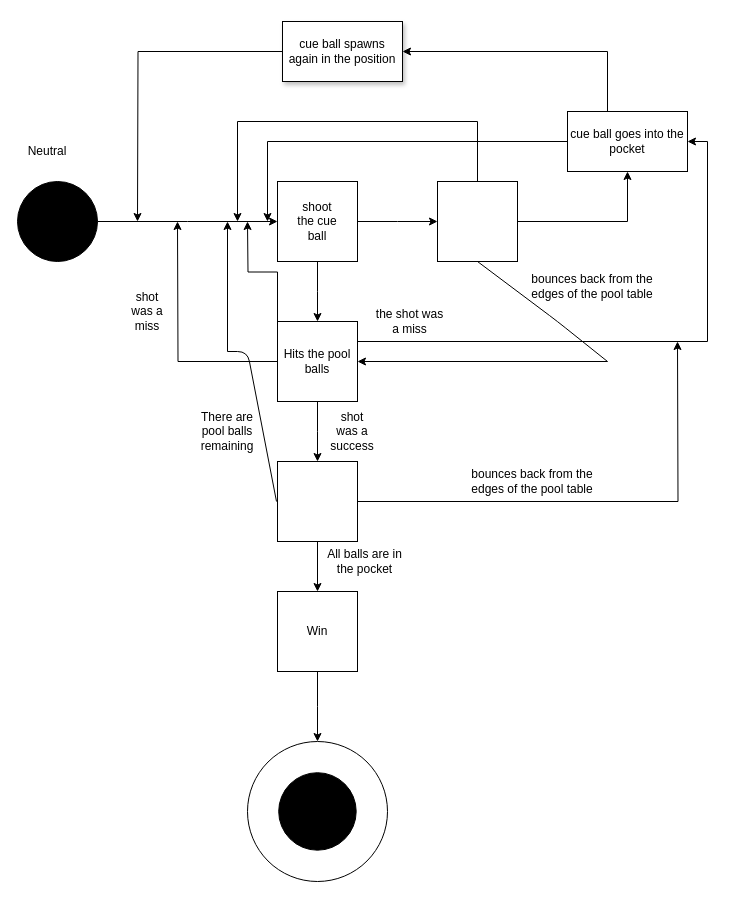
The diagram is 733 pixels wide and 899 high, and some of its shapes have lost their labels. The centre of each missing label's shape, as x and y in pixels:
Misses the pool balls: the point at 477,221
Pool ball goes in the pocket: the point at 317,501
